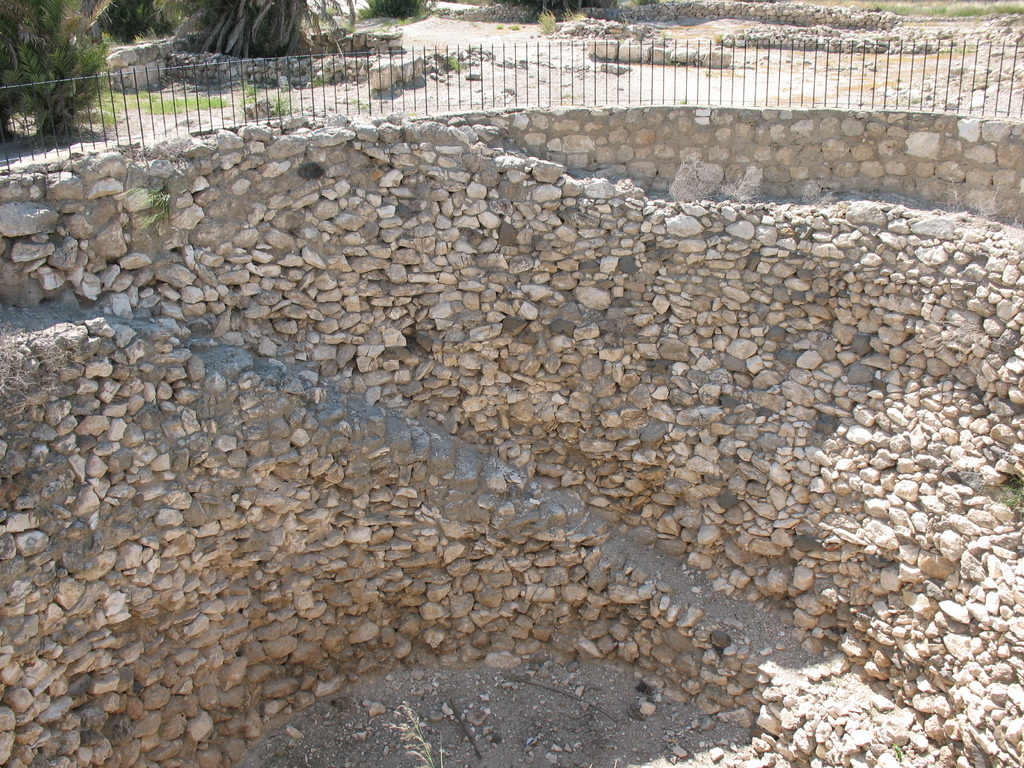Tree: (0, 0, 661, 142)
